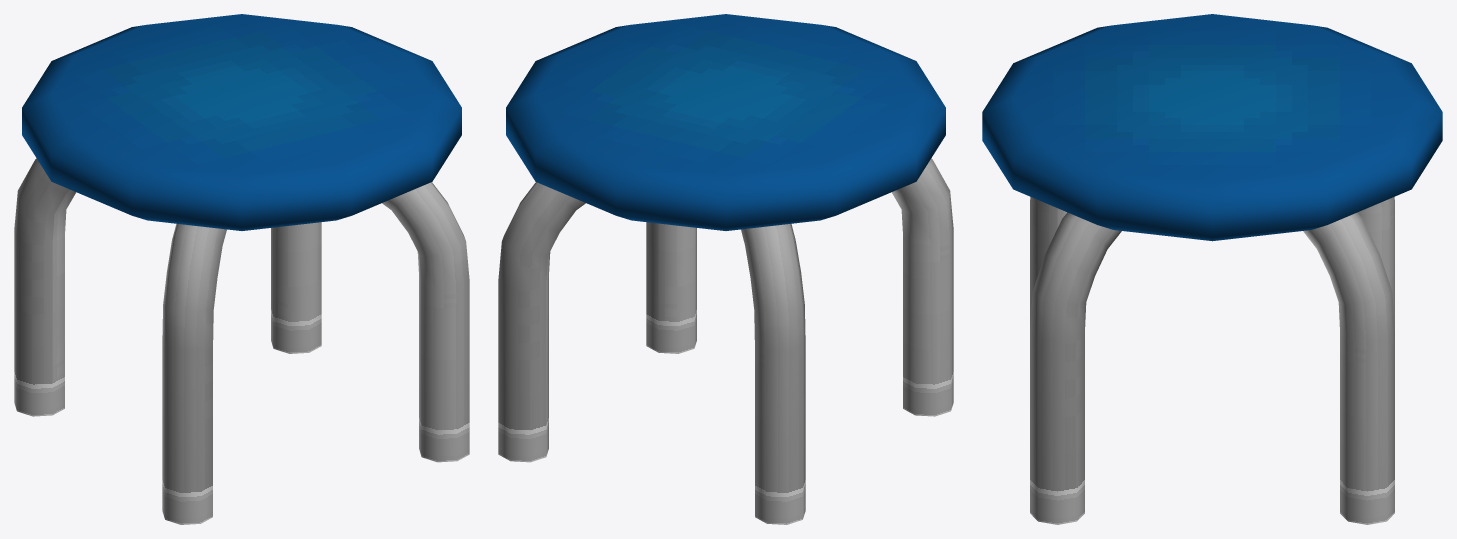
Rendered from rmk_oth_stool.dae.
3 views of the same model, side by side, from view 1: azimuth 30°, elevation 25°; view 2: azimuth 150°, elevation 25°; view 3: azimuth 270°, elevation 25° (orthographic). The views are drawn at different scales.
Visible parts, largest first — view 1: rmk_oth_stool; view 2: rmk_oth_stool; view 3: rmk_oth_stool.
Part boxes in pixels (box(x1,y1,x2,y2)): rmk_oth_stool: box(14, 14, 469, 524); rmk_oth_stool: box(498, 14, 953, 524); rmk_oth_stool: box(982, 14, 1442, 524).
Size of the model in its own units: 19.83 by 16.62 by 19.83.
2 materials, 2 textured.
